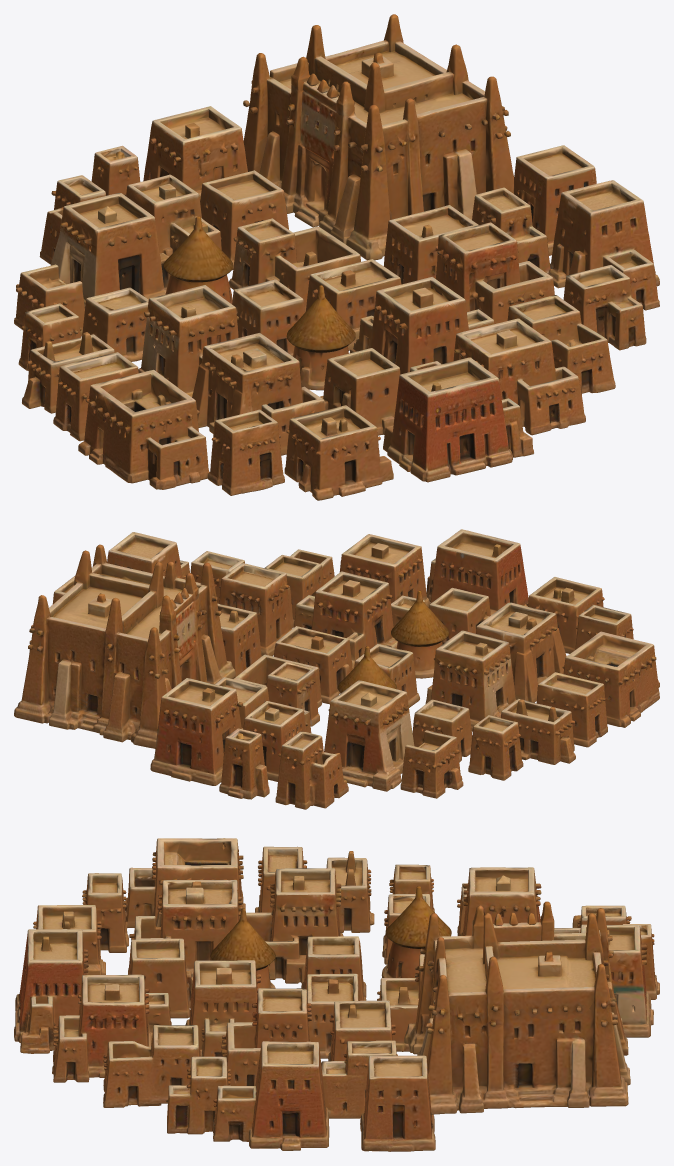
File: Medieval Town (West African).fbx
3 views of the same model, one above another, from view 1: azimuth 30°, elevation 25°; view 2: azimuth 150°, elevation 25°; view 3: azimuth 270°, elevation 25° (orthographic). The views are drawn at different scales.
Parts seen in each view (by area): view 1: tripo_node_aad11412; view 2: tripo_node_aad11412; view 3: tripo_node_aad11412.
Part boxes in pixels (x1=…): tripo_node_aad11412: x1=14, y1=14, x2=659, y2=500; tripo_node_aad11412: x1=14, y1=529, x2=659, y2=809; tripo_node_aad11412: x1=14, y1=838, x2=659, y2=1151.
Bounding box in the file's own units: 1 × 0.3073 × 0.9949.
